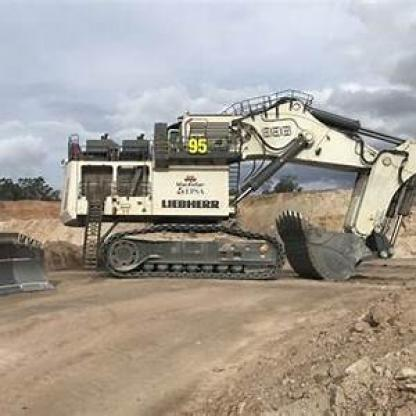excavator: (63, 81, 414, 292)
